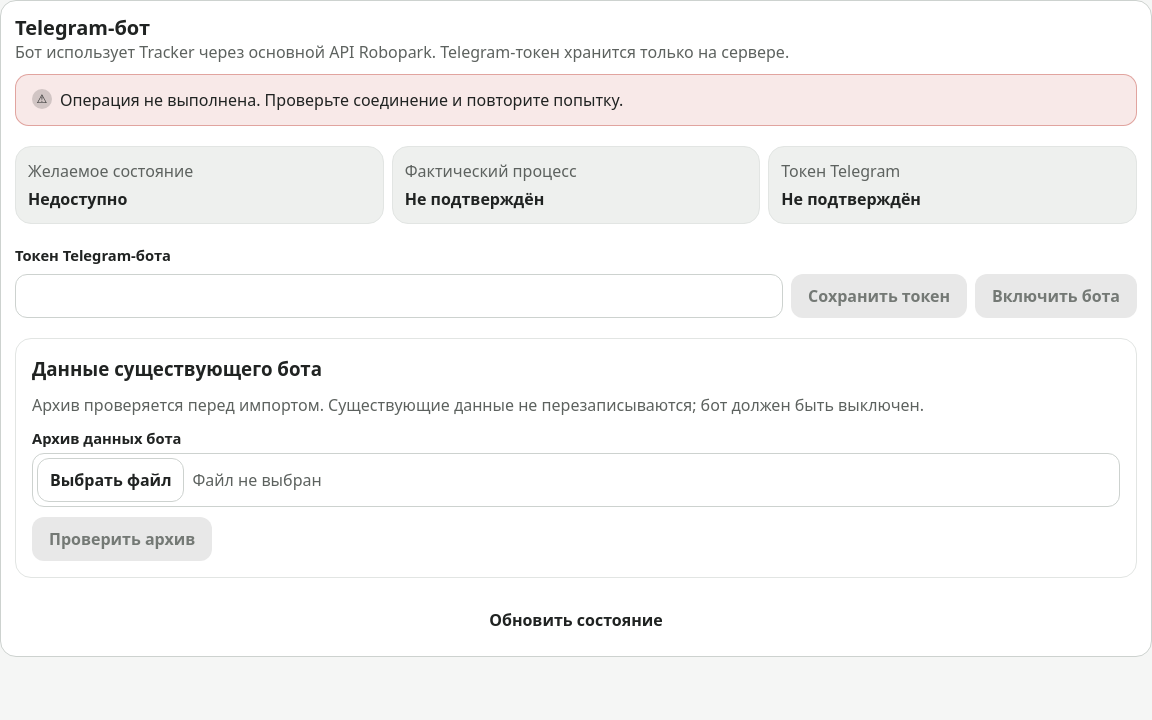
Test: BotSettingsPanel › does not report a missing token or endless loading when status is unavailable
Expected: the message "⚠ Операция не выполнена. Проверьте соединение и повторите попытку." is shown, [15,74,1137,126]
Expected: the text "Не задан" is not shown
Click the button "Обновить состояние" at point(576, 620), box [15,598,1137,642]
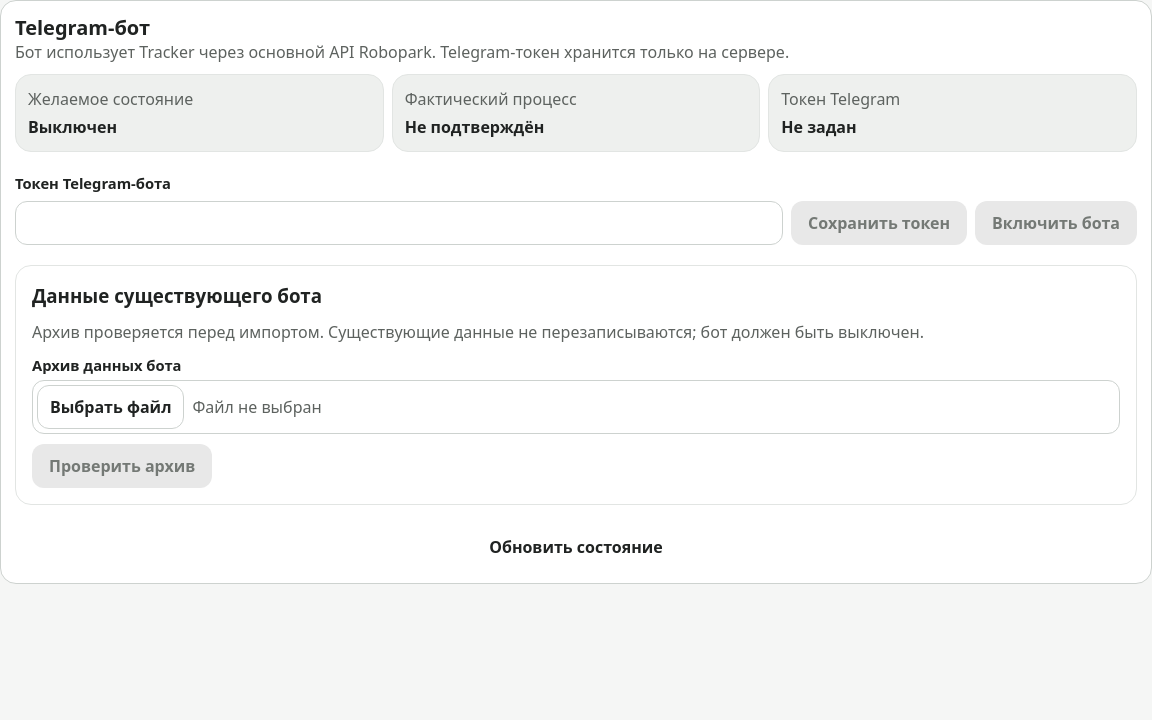
Now the text "Не задан" is shown, box [781,116,857,138]
Now the message "⚠ Операция не выполнена. Проверьте соединение и повторите попытку." is gone
